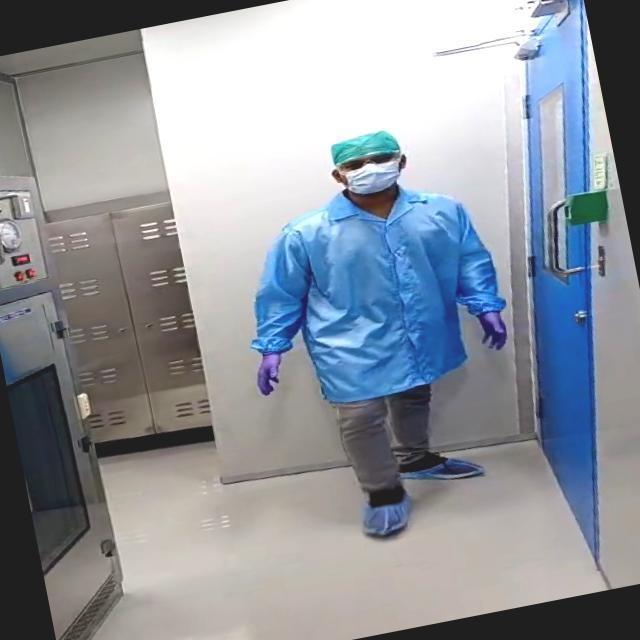apron: (249, 349, 284, 404), (476, 303, 511, 352)
